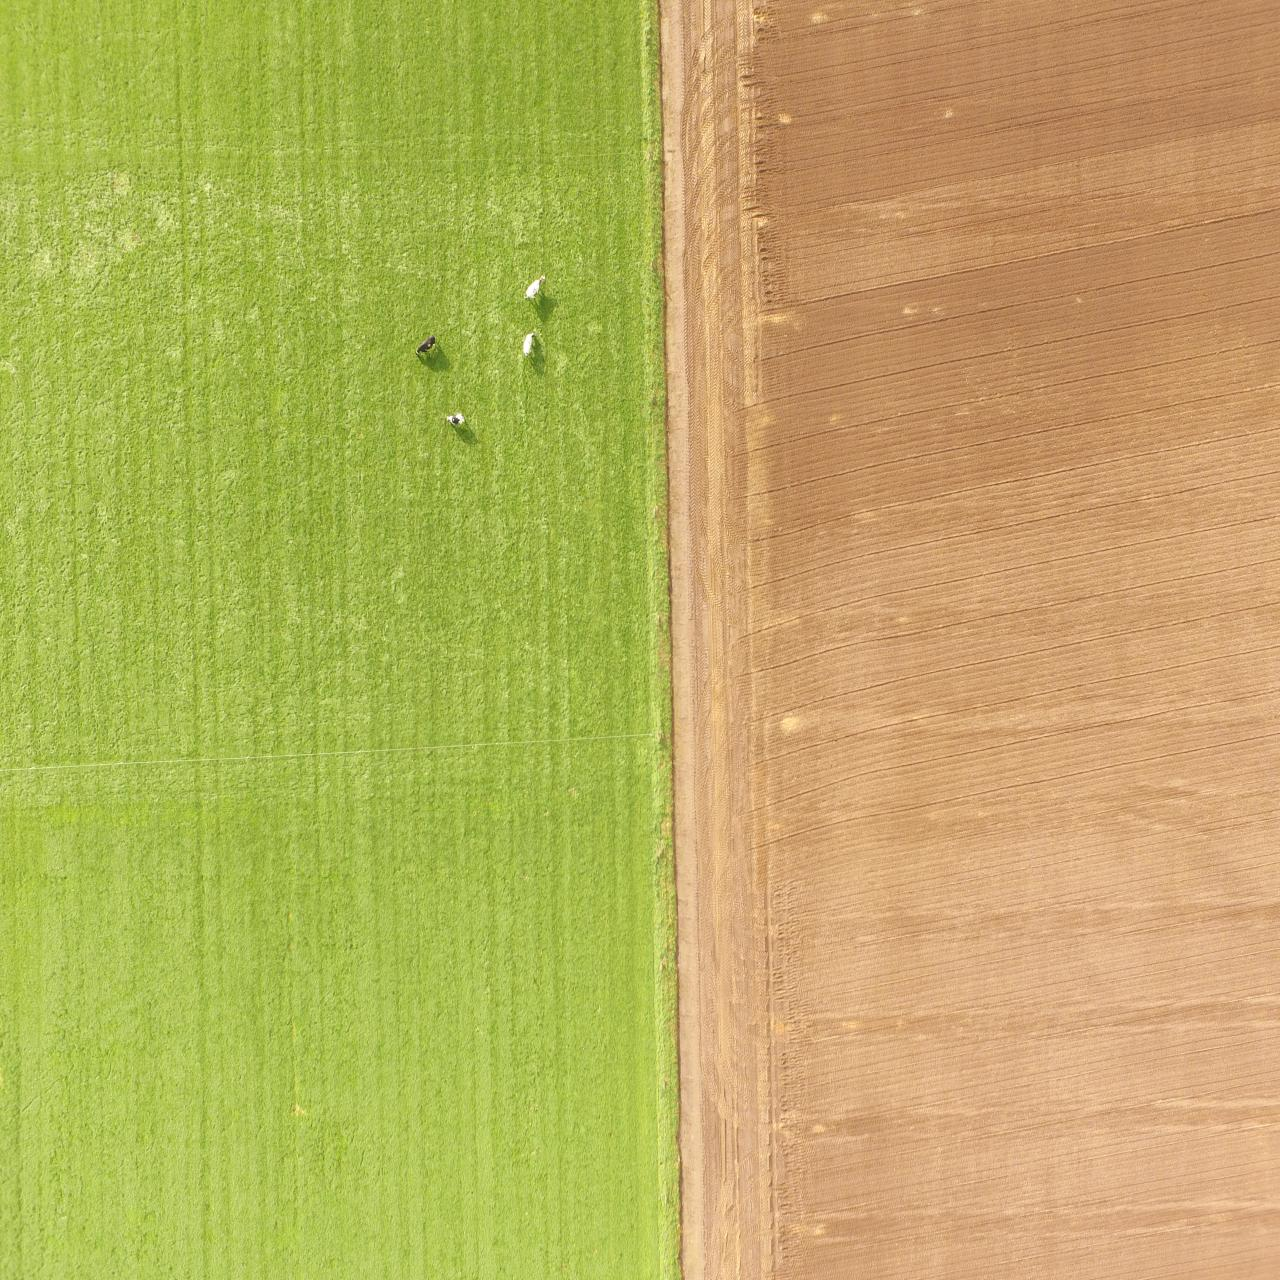cow: (520, 268, 550, 308), (411, 328, 440, 366), (517, 326, 542, 365), (442, 407, 468, 436)
